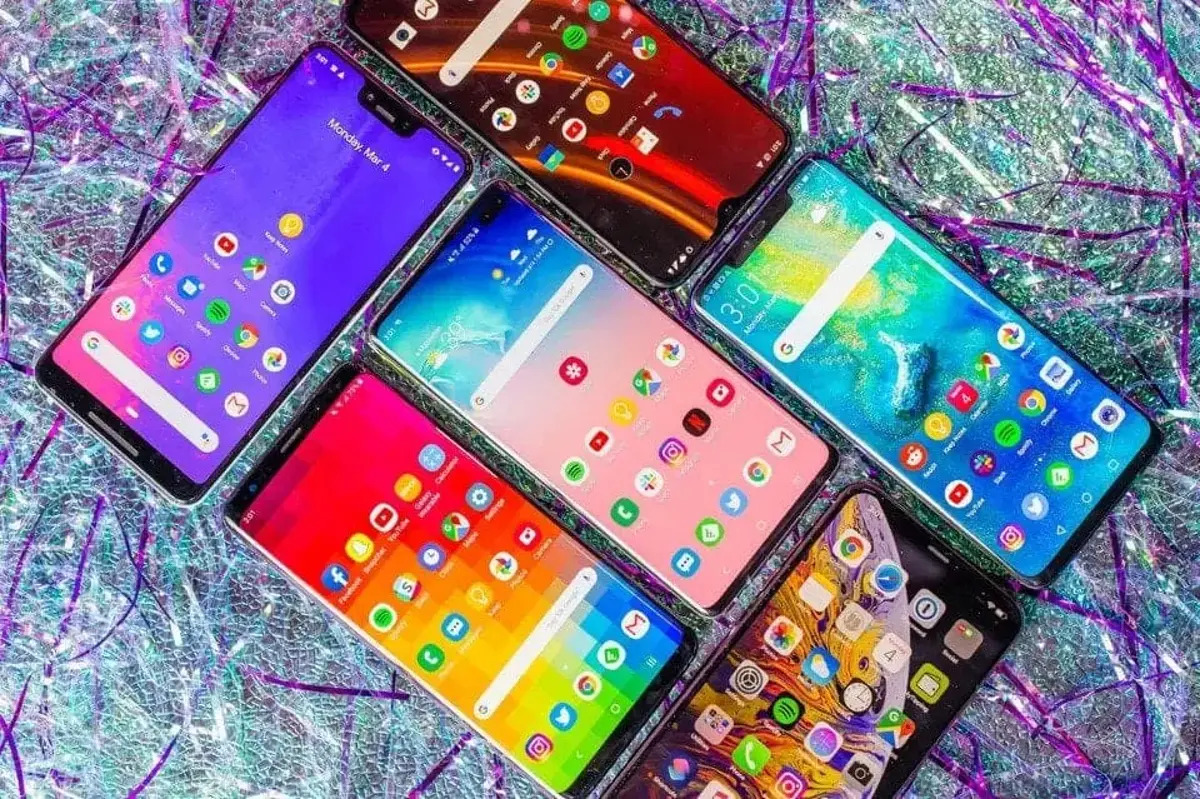phones: (667, 155, 1179, 625), (349, 175, 862, 623), (210, 364, 704, 792), (37, 42, 480, 508)
